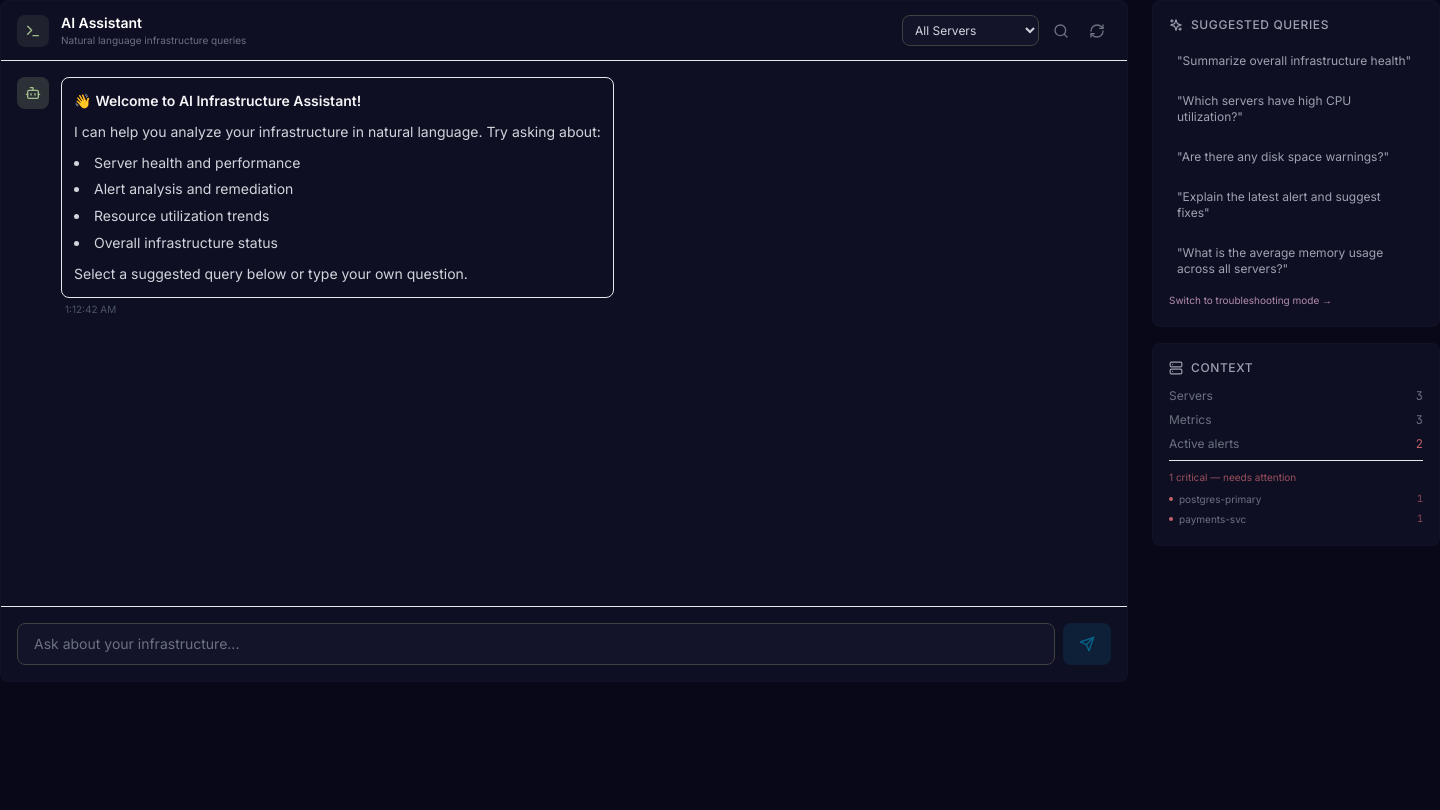
Test: AIChat › toggles to troubleshoot mode
Click the button titled "Show troubleshooting queries" at (1061, 30), box [1047,16,1075,44]
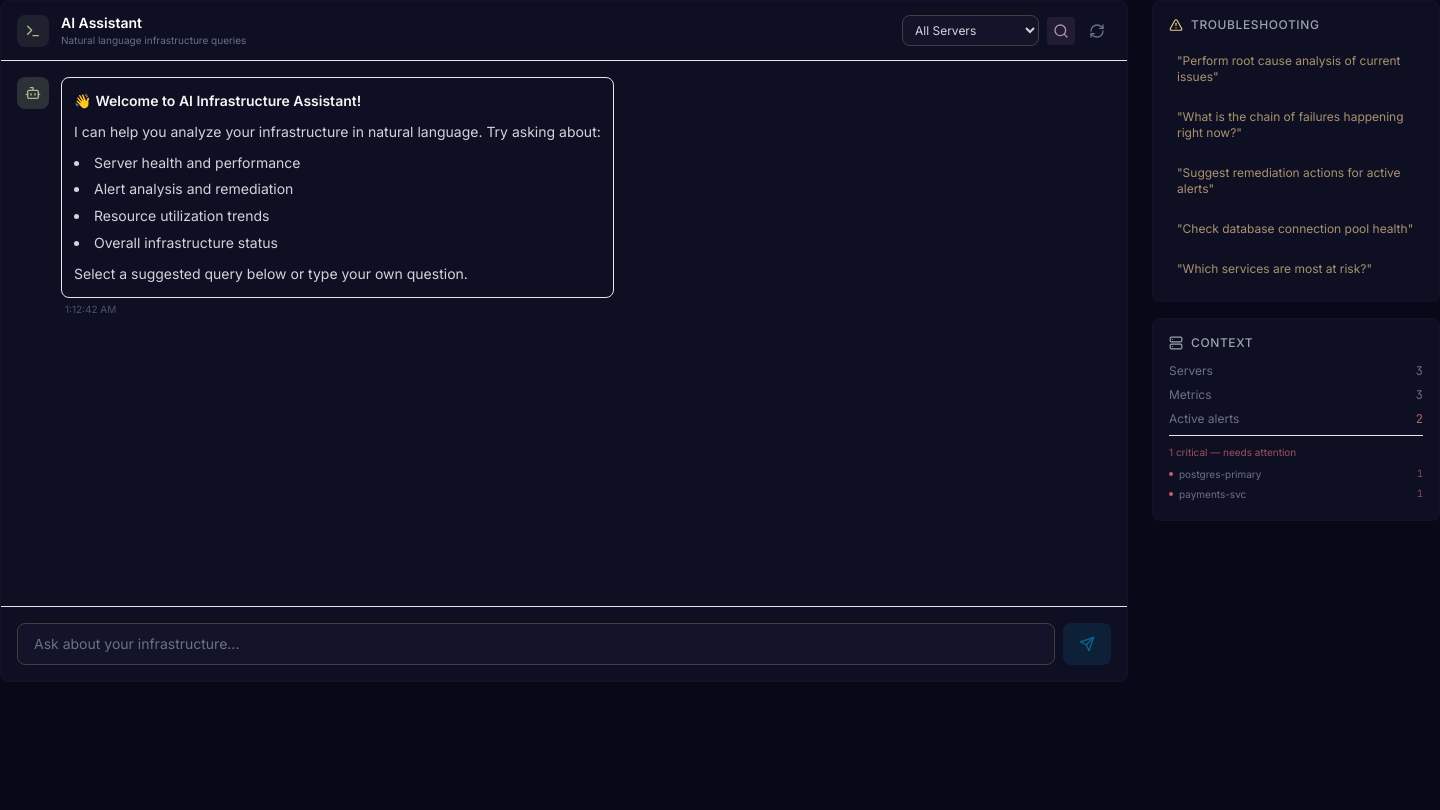
Check: the heading "Troubleshooting" is shown, box [1169,17,1320,32]
Check: the button "\"Perform root cause analysis of current issues\"" is shown, box [1169,45,1423,93]
